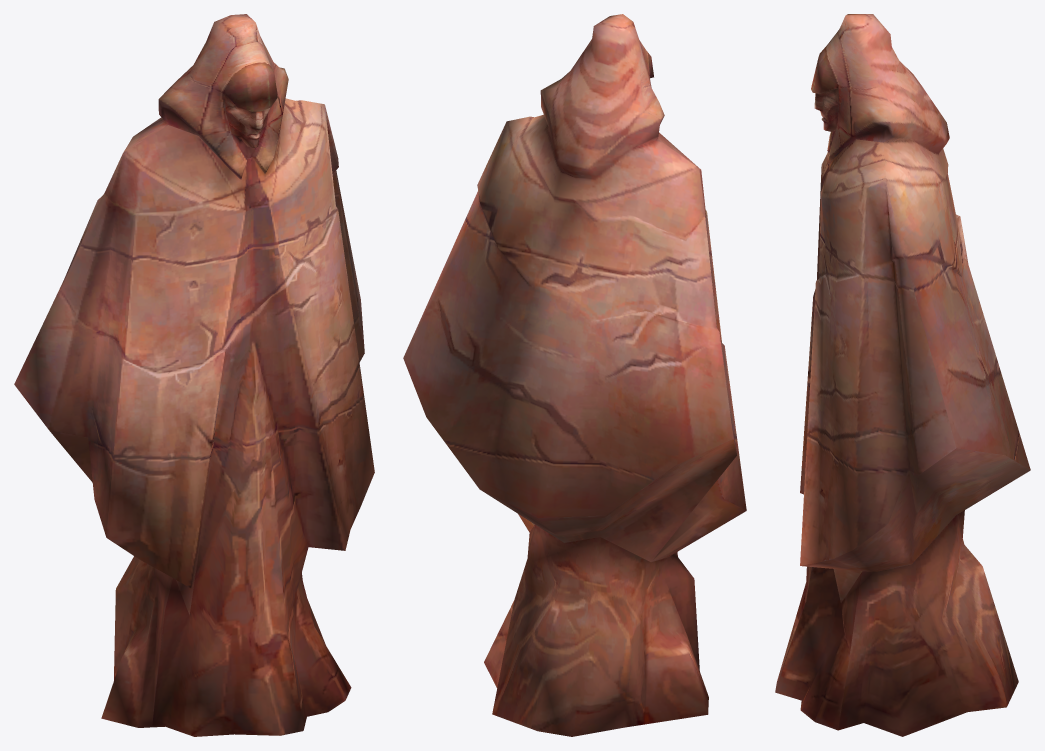
Rendered from kor_tomb_item_statue_02.glb.
The picture shows the model from 3 angles, left to right: view 1: azimuth 30°, elevation 25°; view 2: azimuth 150°, elevation 25°; view 3: azimuth 270°, elevation 25°; orthographic projection. The views are drawn at different scales.
Visible parts, largest first — view 1: kor_tomb_item_statue_02; view 2: kor_tomb_item_statue_02; view 3: kor_tomb_item_statue_02.
Part boxes in pixels (x1,y1,x2,y2): kor_tomb_item_statue_02: (14,14,374,736); kor_tomb_item_statue_02: (403,14,746,736); kor_tomb_item_statue_02: (775,14,1030,736).
Size of the model in its own units: 0.7752 by 1.47 by 0.5109.
Materials: 1 (1 with a texture image).
